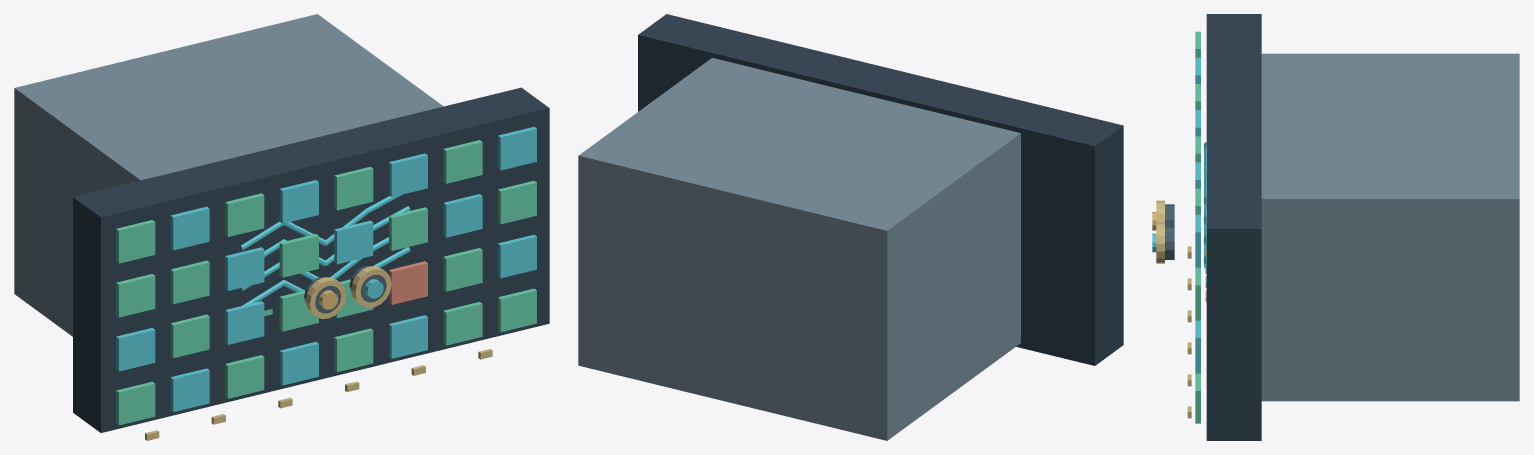
Rendered from 17_L81_MemoryAddressDecoder.glb.
3 views of the same model, side by side, from view 1: azimuth 30°, elevation 25°; view 2: azimuth 150°, elevation 25°; view 3: azimuth 270°, elevation 25° (orthographic). The views are drawn at different scales.
Visible parts, largest first — view 1: MemoryAddressDecoder_Node_0051, MemoryAddressDecoder_Node_0000, MemoryAddressDecoder_Node_0058, MemoryAddressDecoder_Node_0062, MemoryAddressDecoder_Node_0052, MemoryAddressDecoder_Node_0056, MemoryAddressDecoder_Node_0069, MemoryAddressDecoder_Node_0076, MemoryAddressDecoder_Node_0079, MemoryAddressDecoder_Node_0082, MemoryAddressDecoder_Node_0055, MemoryAddressDecoder_Node_0060 (+23 smaller); view 2: MemoryAddressDecoder_Node_0000, MemoryAddressDecoder_Node_0051; view 3: MemoryAddressDecoder_Node_0000, MemoryAddressDecoder_Node_0051, MemoryAddressDecoder_Node_0094.
Part boxes in pixels (<box>): MemoryAddressDecoder_Node_0051: <box>73,87,549,432</box>; MemoryAddressDecoder_Node_0000: <box>14,14,443,336</box>; MemoryAddressDecoder_Node_0058: <box>443,302,482,345</box>; MemoryAddressDecoder_Node_0062: <box>225,301,264,344</box>; MemoryAddressDecoder_Node_0052: <box>116,381,155,425</box>; MemoryAddressDecoder_Node_0056: <box>334,328,373,372</box>; MemoryAddressDecoder_Node_0069: <box>170,260,209,304</box>; MemoryAddressDecoder_Node_0076: <box>116,220,155,263</box>; MemoryAddressDecoder_Node_0079: <box>279,180,318,223</box>; MemoryAddressDecoder_Node_0082: <box>443,140,482,183</box>; MemoryAddressDecoder_Node_0055: <box>279,342,318,385</box>; MemoryAddressDecoder_Node_0060: <box>116,327,155,371</box>; MemoryAddressDecoder_Node_0000: <box>578,58,1020,440</box>; MemoryAddressDecoder_Node_0051: <box>638,14,1123,365</box>; MemoryAddressDecoder_Node_0000: <box>1261,53,1519,401</box>; MemoryAddressDecoder_Node_0051: <box>1206,14,1261,440</box>; MemoryAddressDecoder_Node_0094: <box>1156,222,1164,263</box>.
Bounding box in the file's own units: 1.48 × 0.71 × 1.07.
